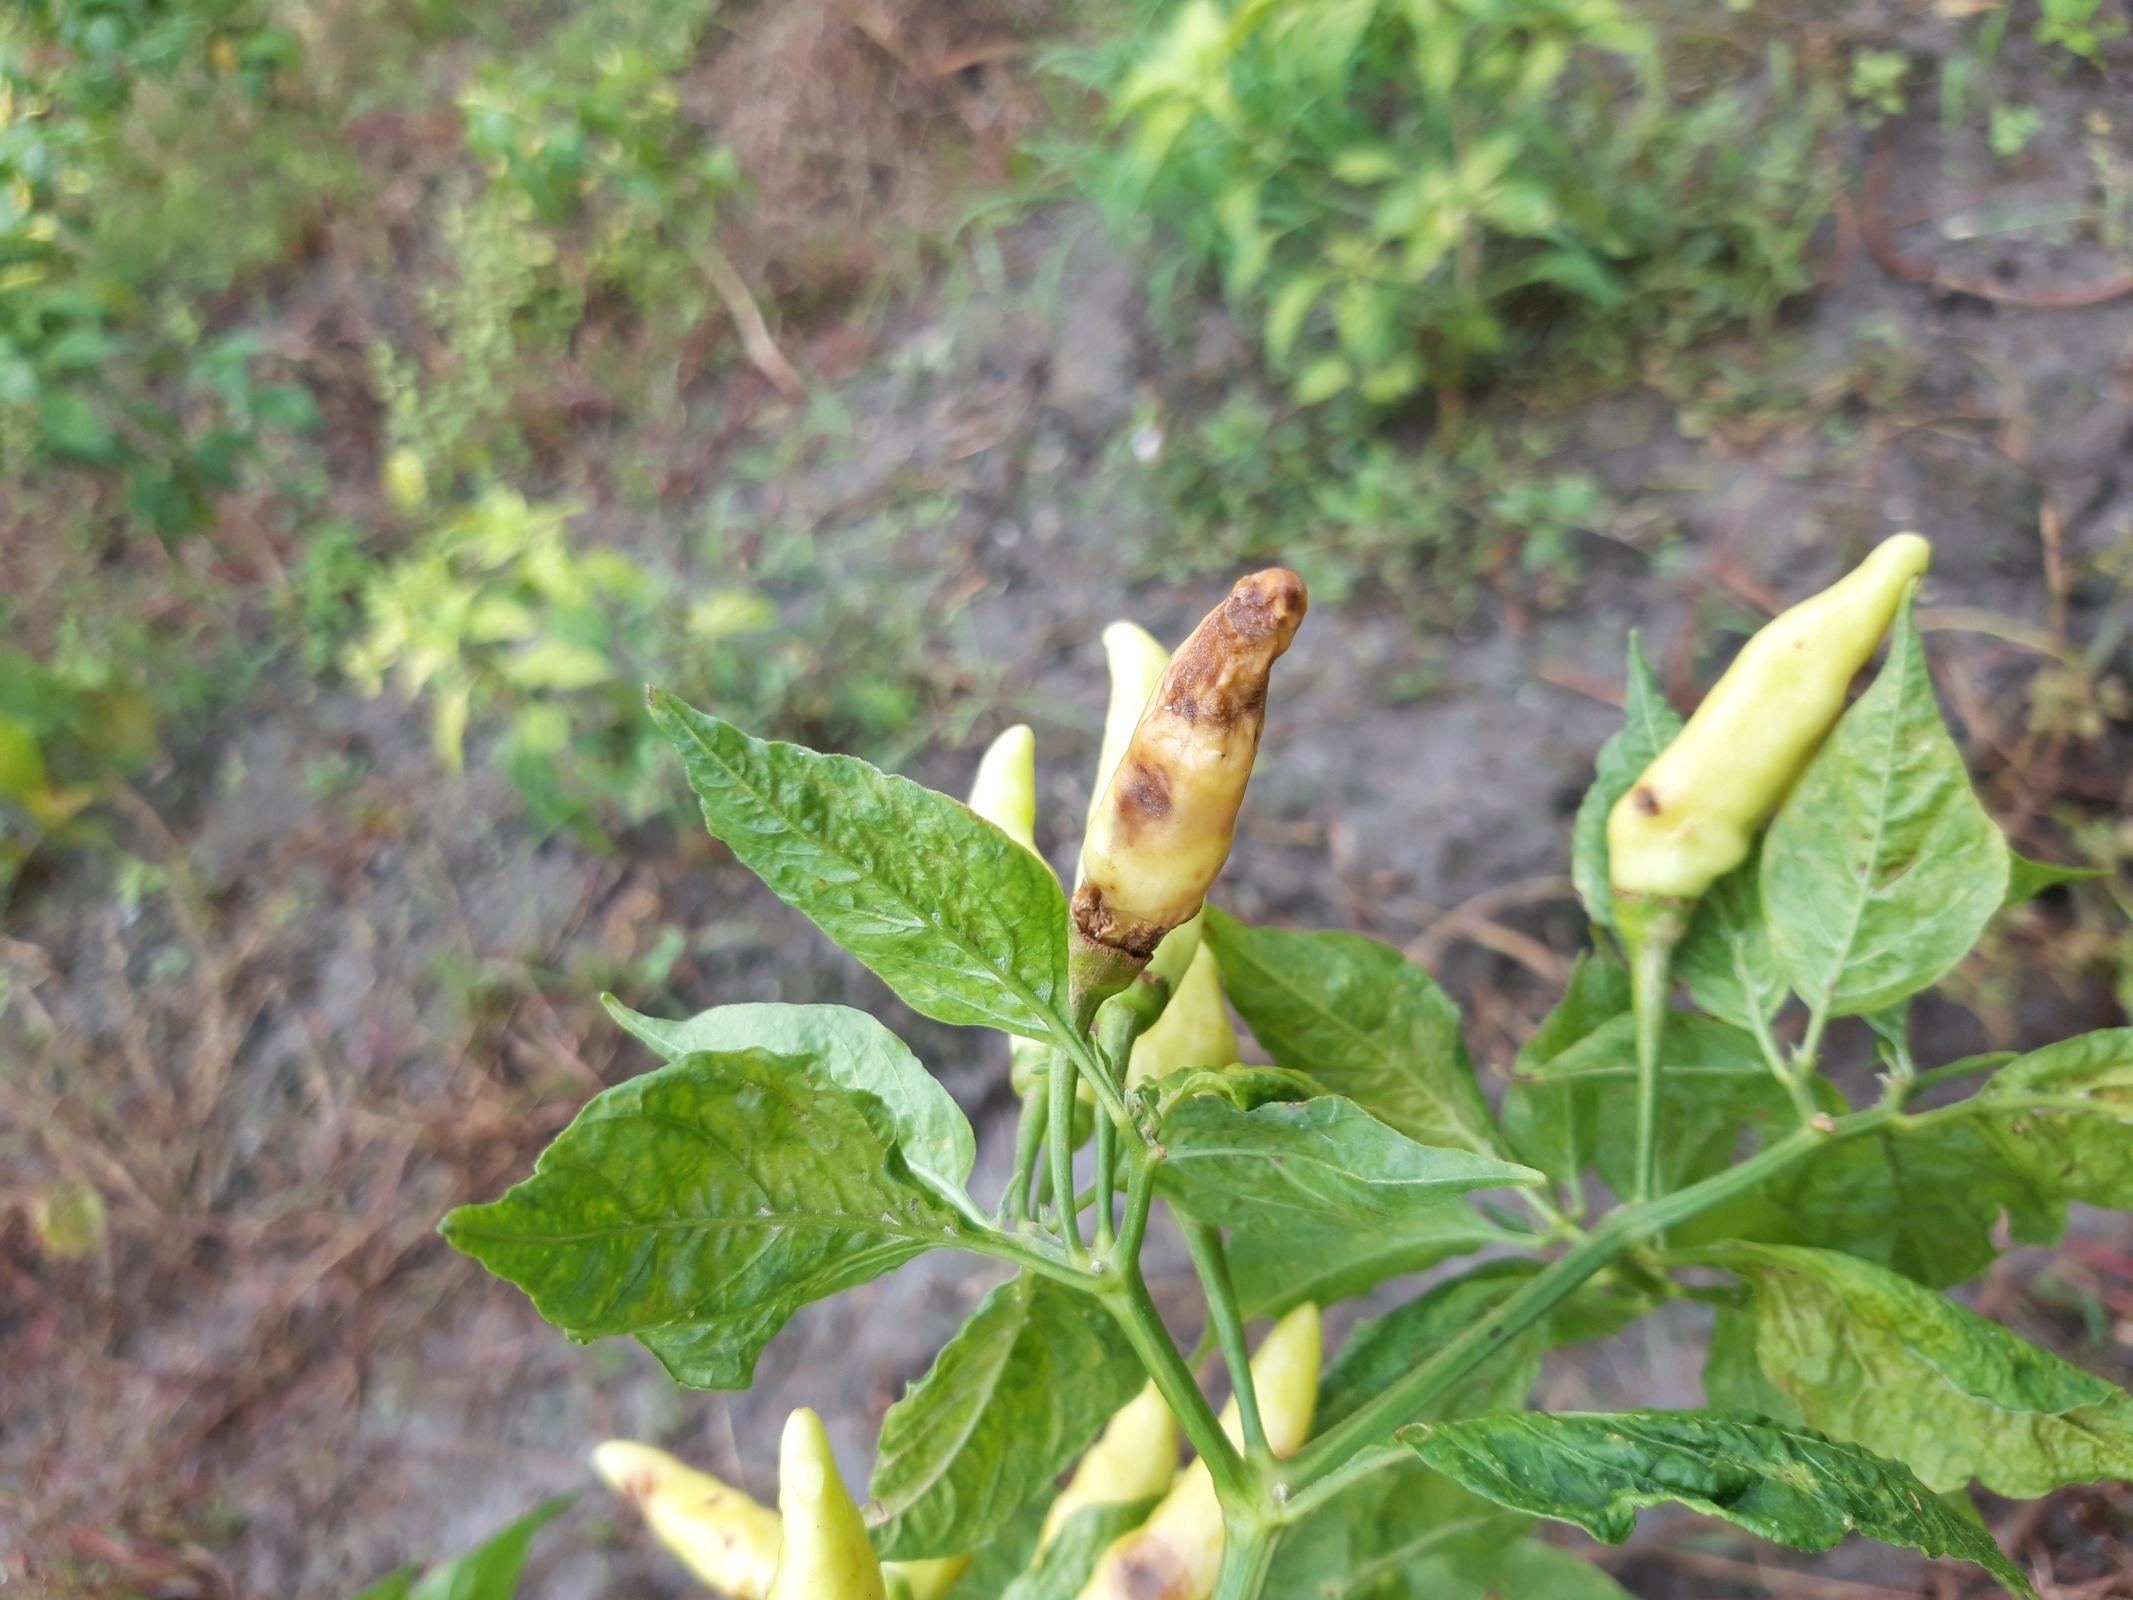antraknosa: (1604, 533, 1957, 906), (1067, 566, 1316, 958)
cabai_normal: (590, 1434, 792, 1600), (785, 1402, 886, 1600)
